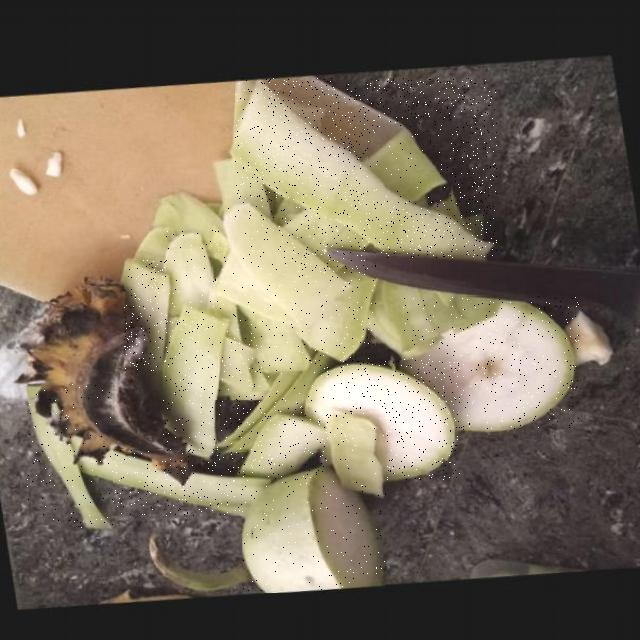biowaste: (236, 78, 497, 258), (227, 201, 376, 359), (403, 296, 579, 429), (243, 462, 385, 592), (307, 360, 460, 479), (213, 252, 315, 399), (219, 350, 353, 451), (80, 449, 273, 516), (28, 384, 113, 529), (163, 303, 233, 457), (279, 198, 374, 269), (369, 127, 452, 200), (240, 413, 330, 476), (124, 260, 175, 370), (328, 412, 386, 495), (167, 230, 219, 314)
